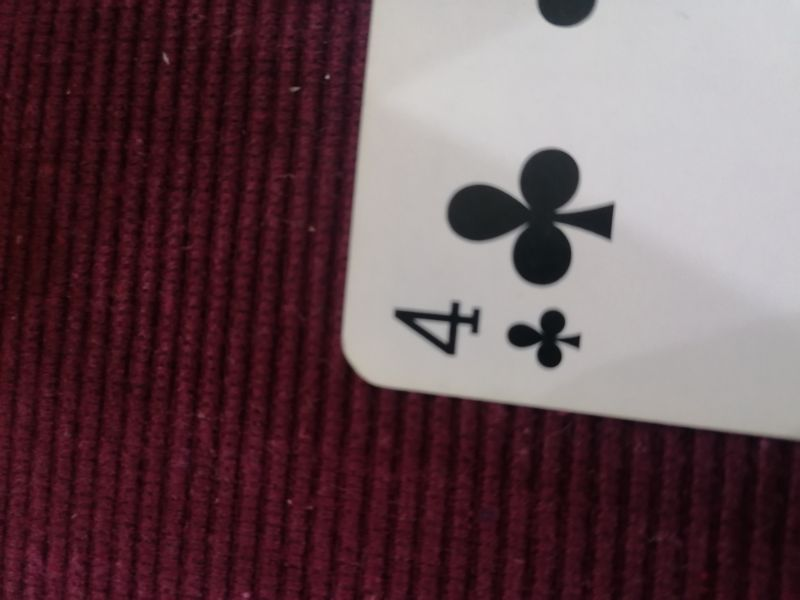4c: (381, 292, 589, 375)
